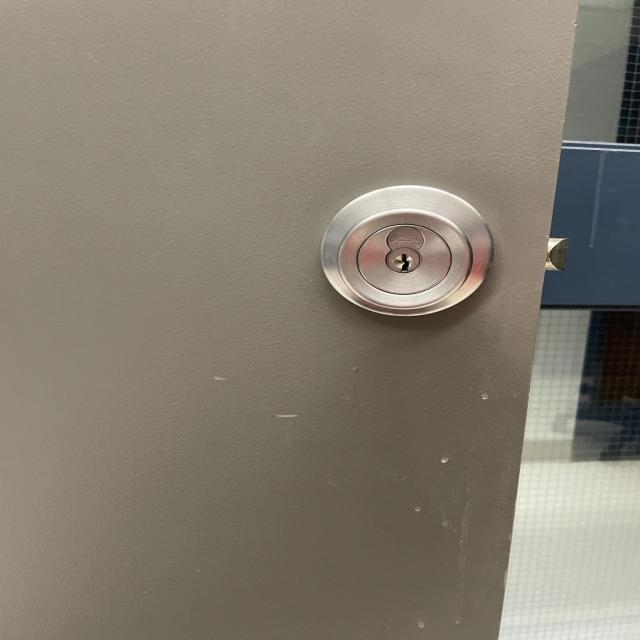door-knob: (320, 185, 493, 316)
